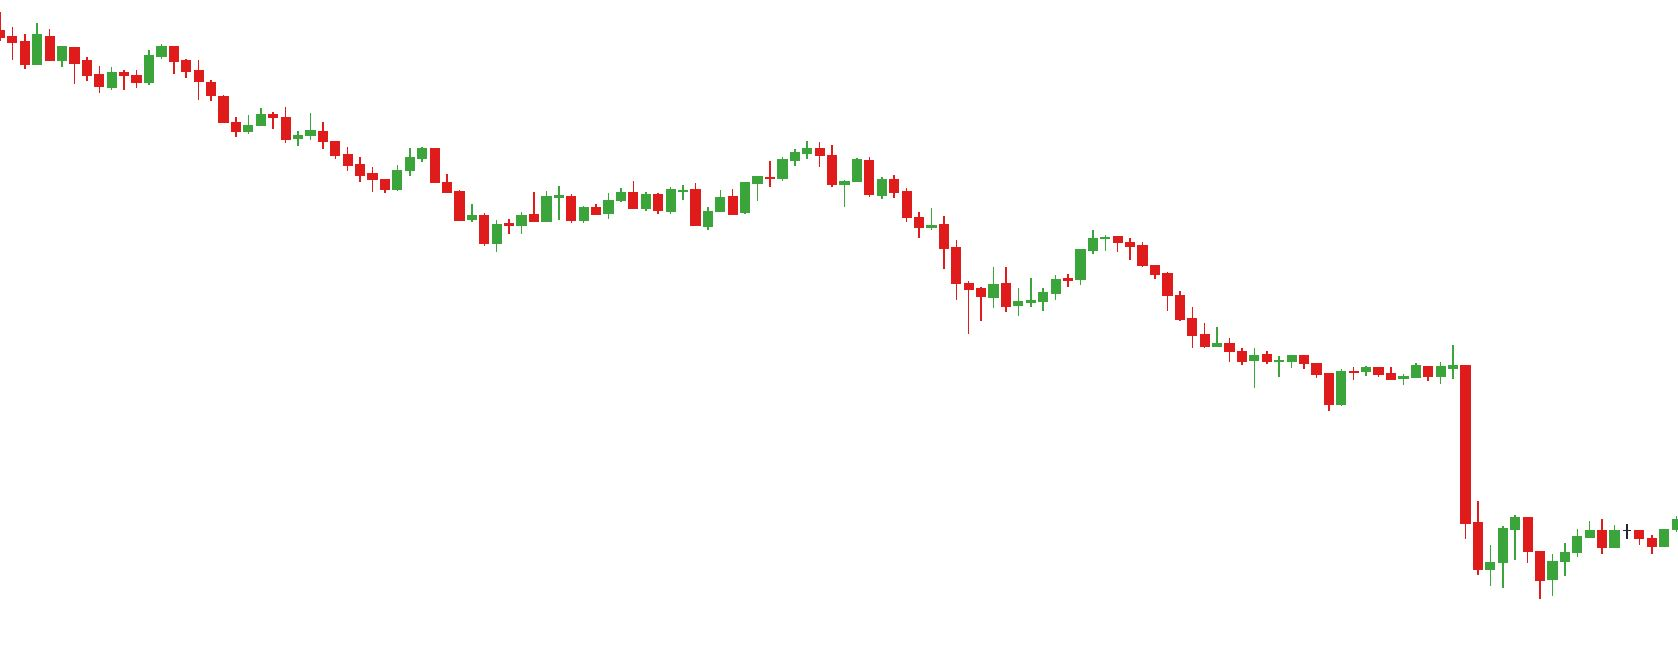buy: (1486, 535, 1561, 602)
